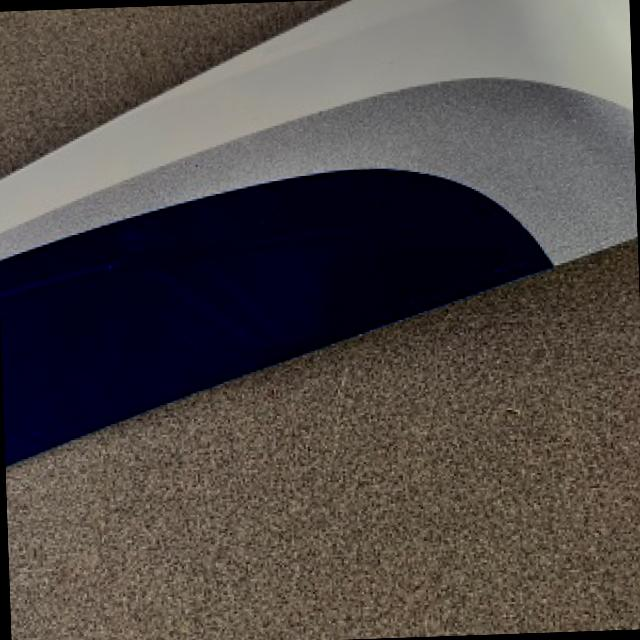healthy: (7, 271, 640, 640)
